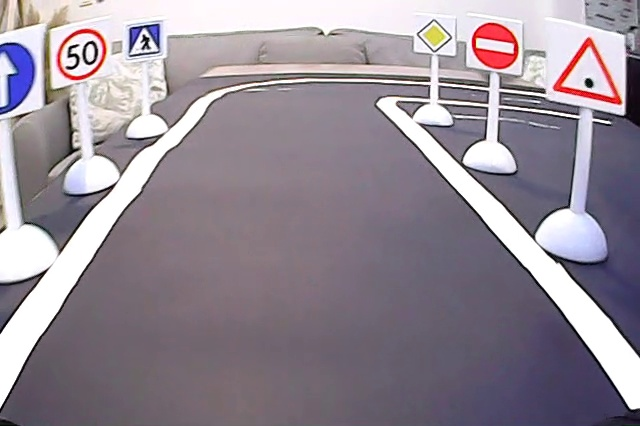do not enter: (469, 15, 522, 73)
green light: (548, 25, 625, 109)
pedestrian crossing: (125, 24, 165, 57)
speed limit 50: (54, 27, 114, 84)
